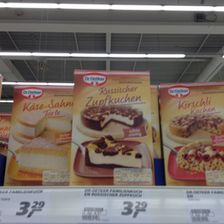cake: (73, 69, 156, 187), (3, 83, 73, 189), (158, 81, 224, 187)
